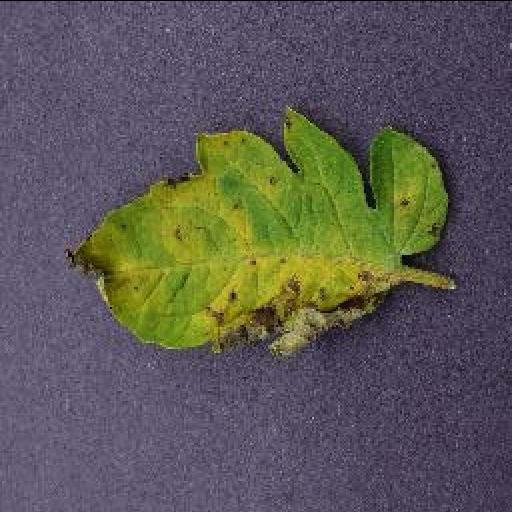disease_tomato: (62, 98, 452, 356)
